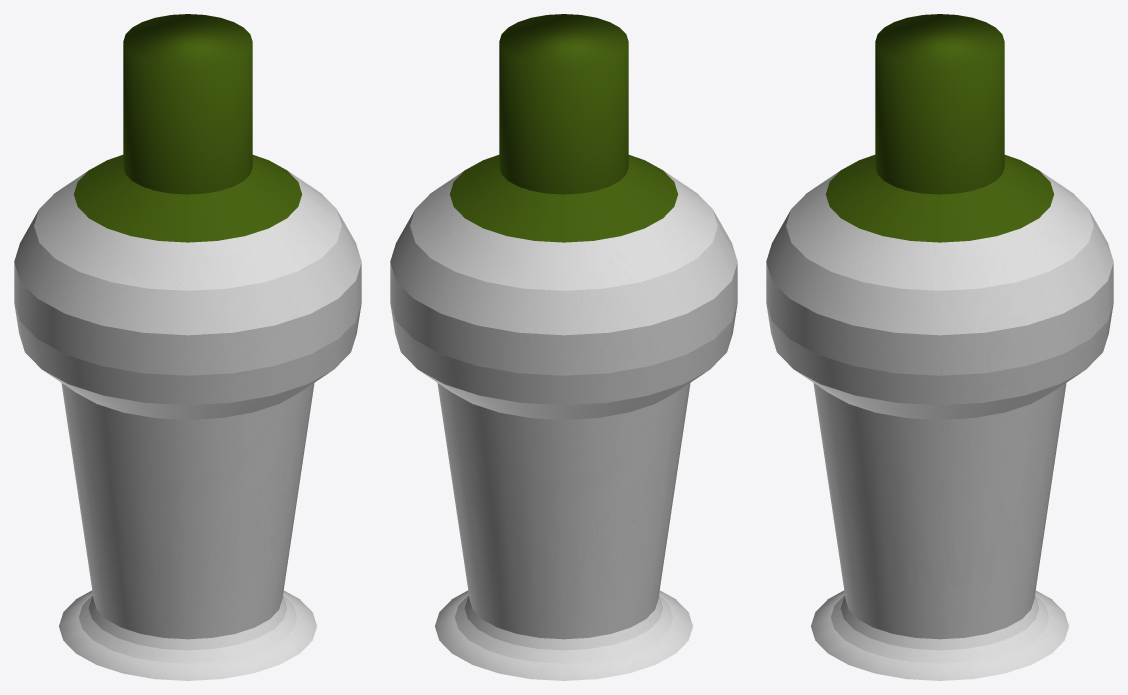
3 views of the same model, side by side, from view 1: azimuth 30°, elevation 25°; view 2: azimuth 150°, elevation 25°; view 3: azimuth 270°, elevation 25° (orthographic).
Visible parts, largest first — view 1: mesh1_mesh1-geometry; view 2: mesh1_mesh1-geometry; view 3: mesh1_mesh1-geometry.
Part boxes in pixels (box(x1,y1,x2,y2)): mesh1_mesh1-geometry: box(14, 14, 361, 680); mesh1_mesh1-geometry: box(390, 14, 737, 680); mesh1_mesh1-geometry: box(766, 14, 1113, 680).
Bounding box in the file's own units: 0.4284 × 0.7956 × 0.4284.
